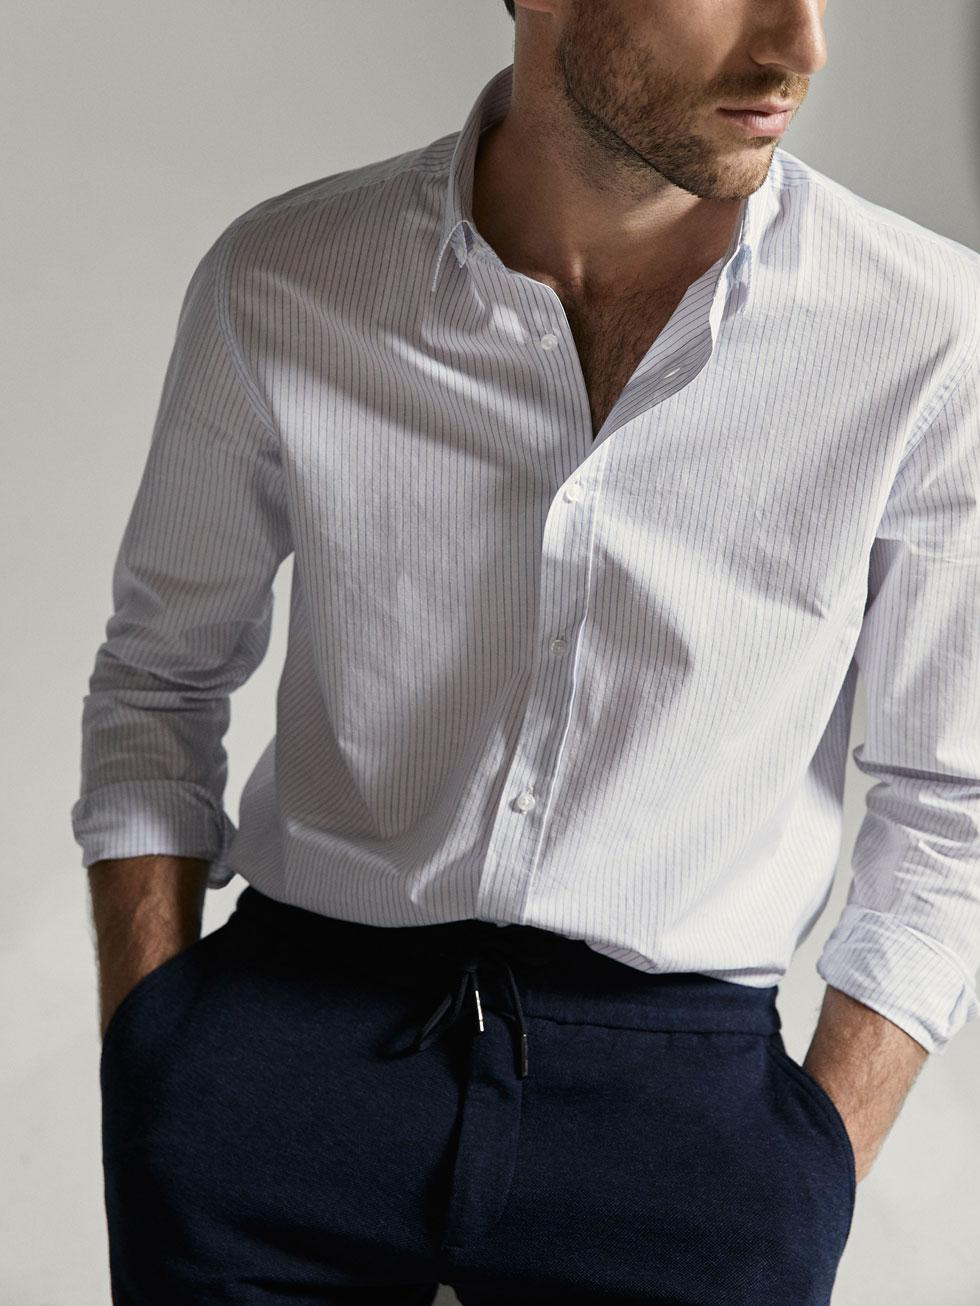teeshirt: (67, 103, 980, 1051)
